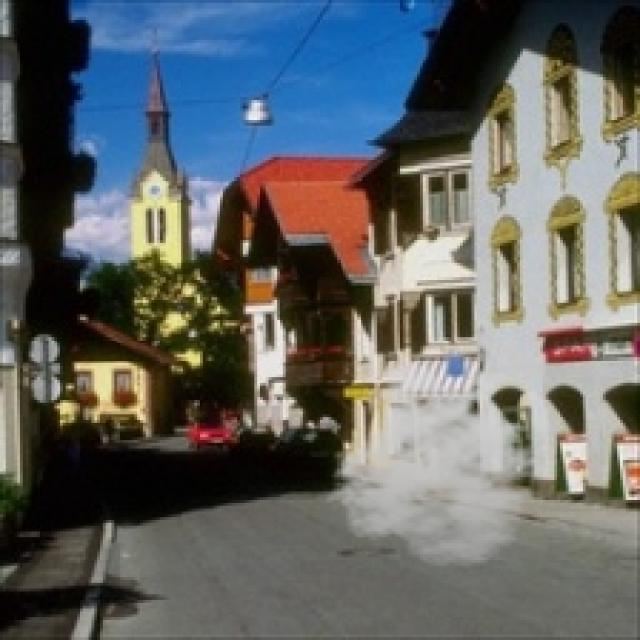Smoke: (323, 361, 566, 568)
